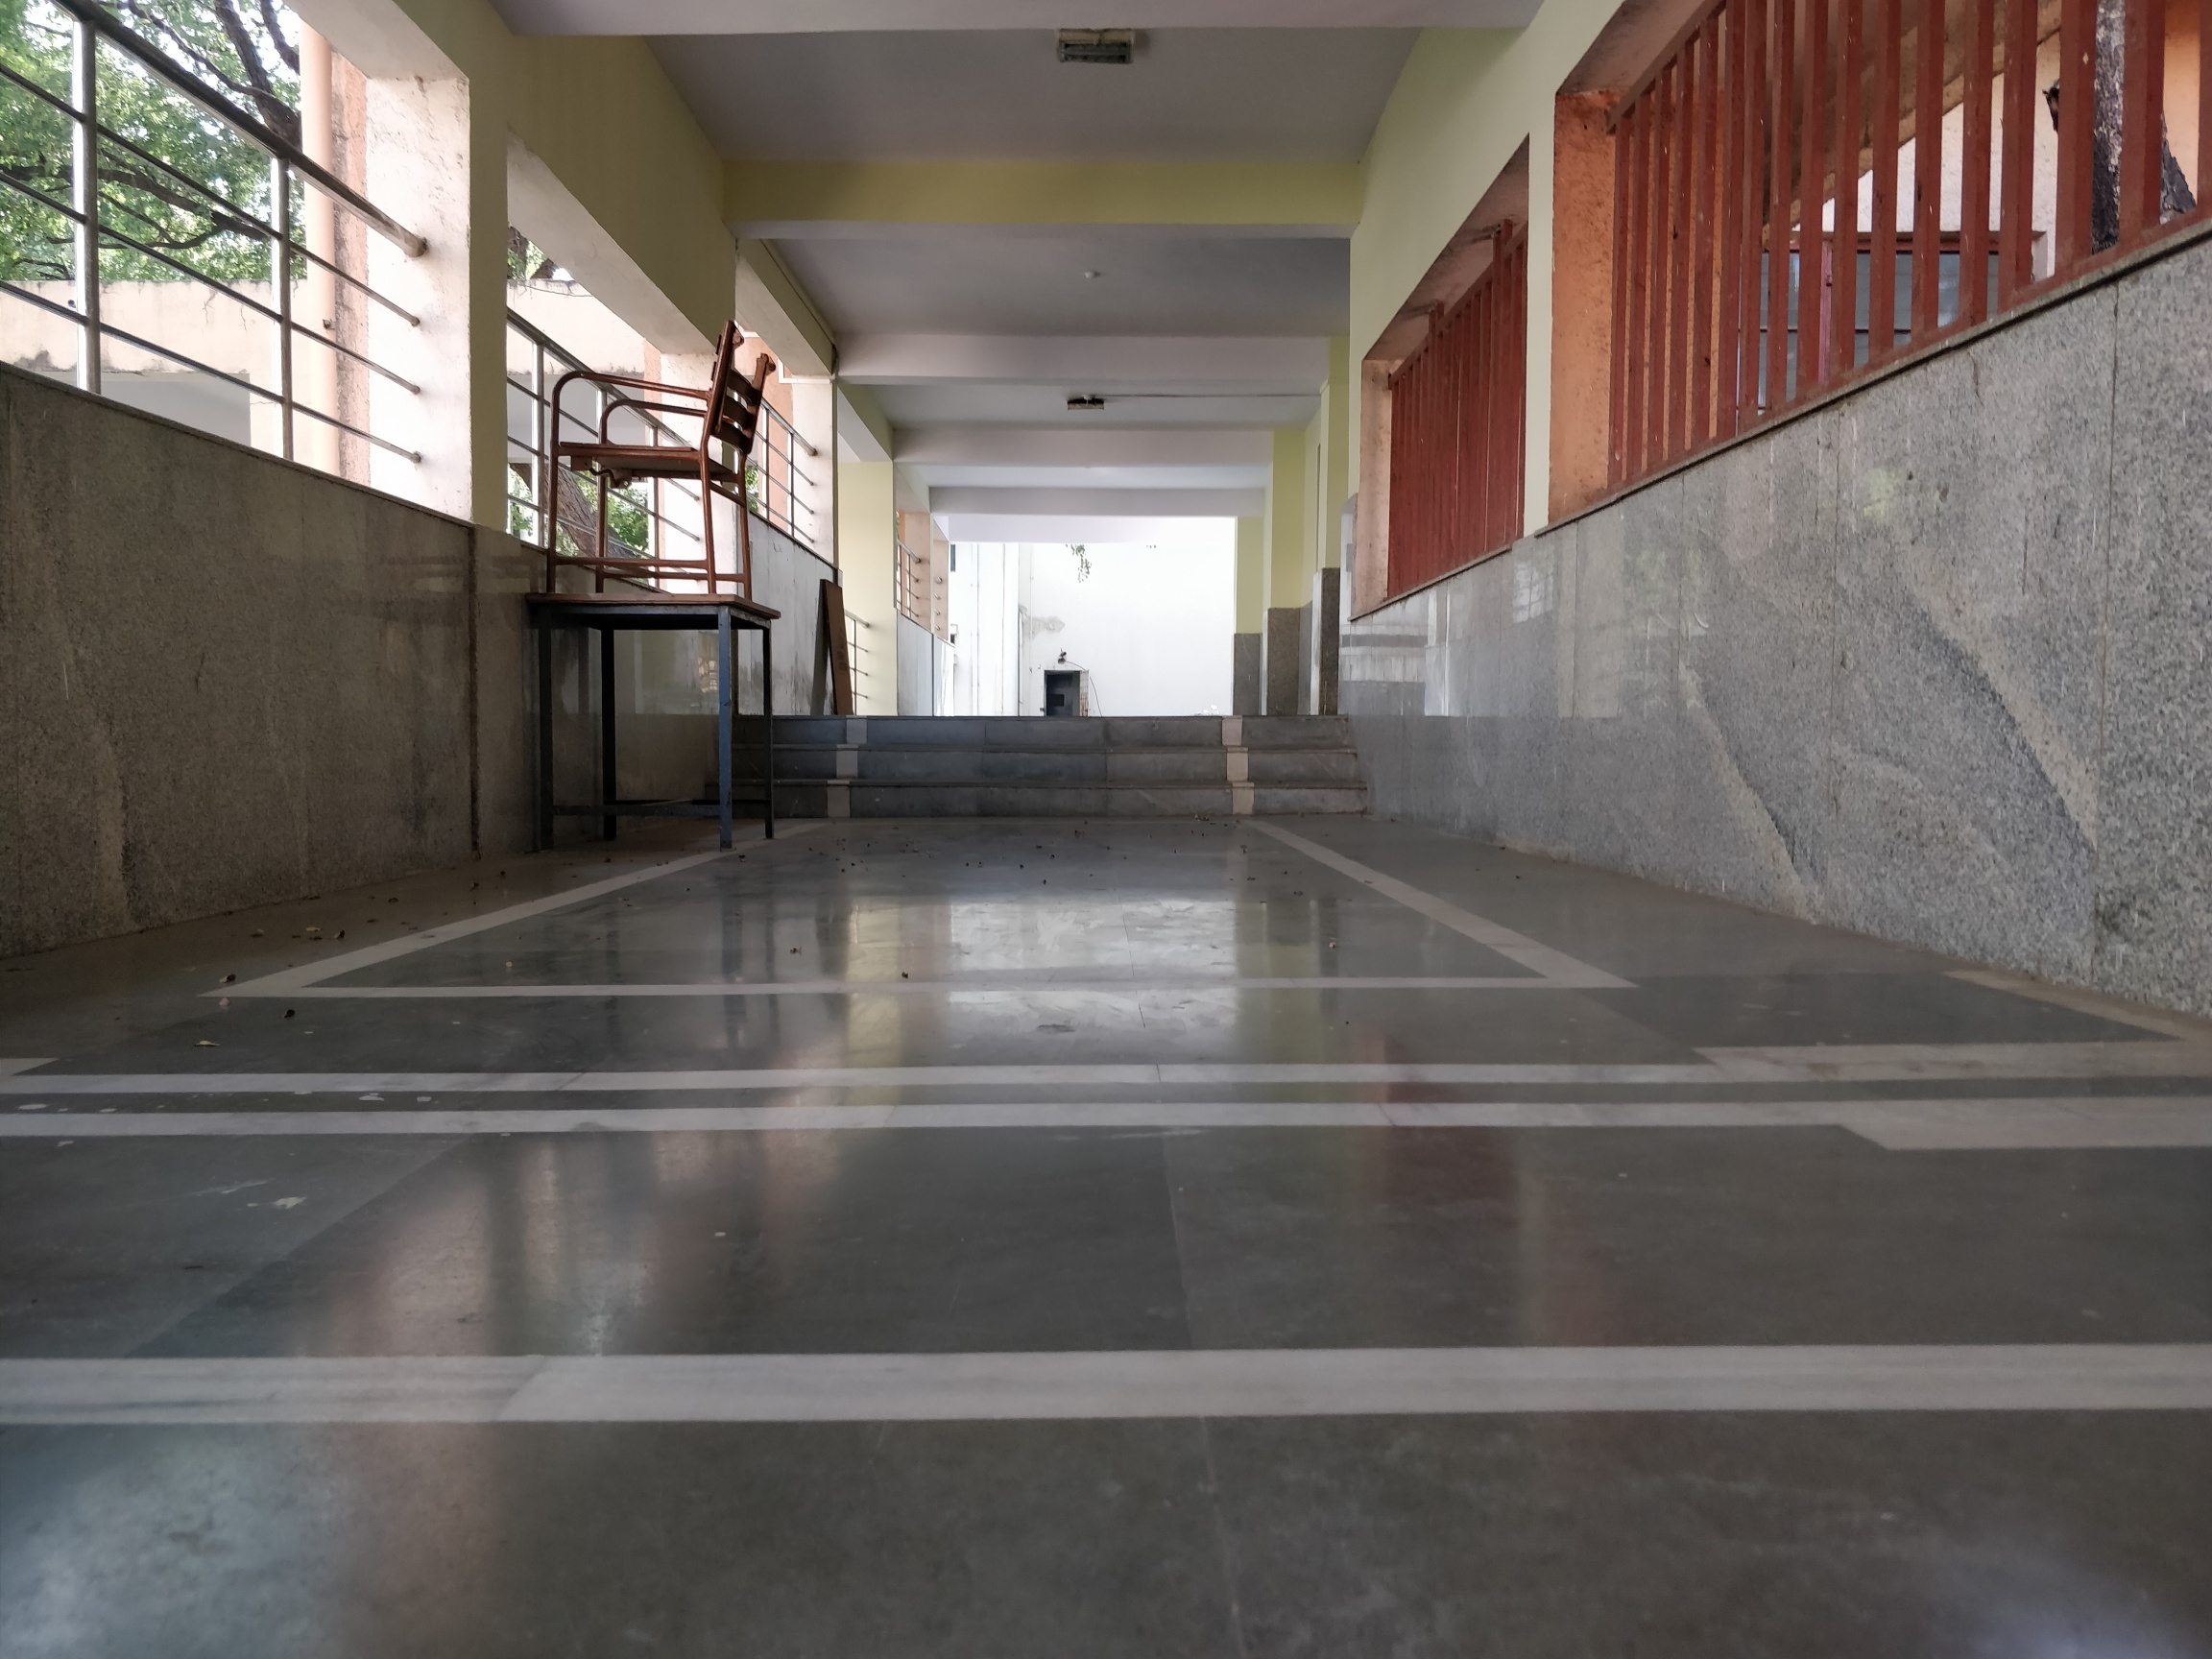stairs_up: (685, 714, 1379, 819)
